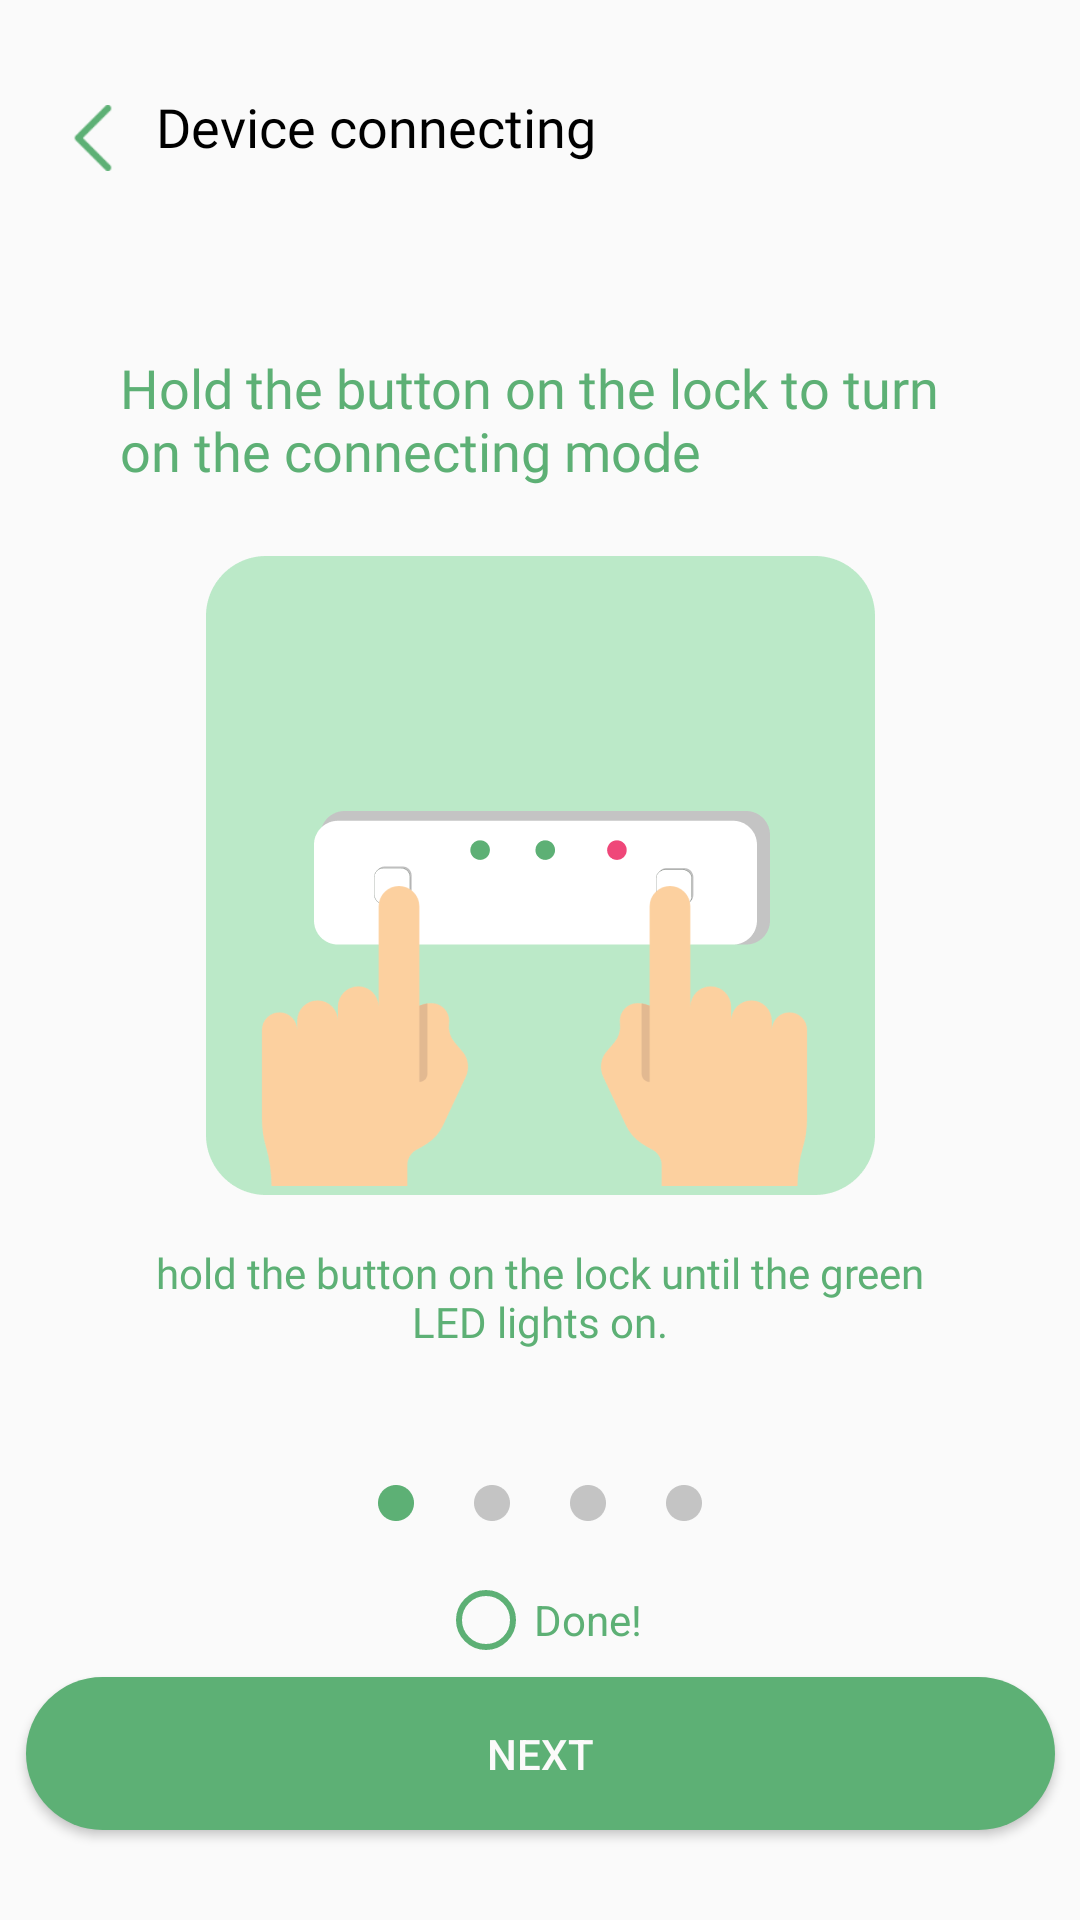

Icons on this 1080px×1920px Android screen, each with the point to tap as point (x, y):
back: point (93, 138)
